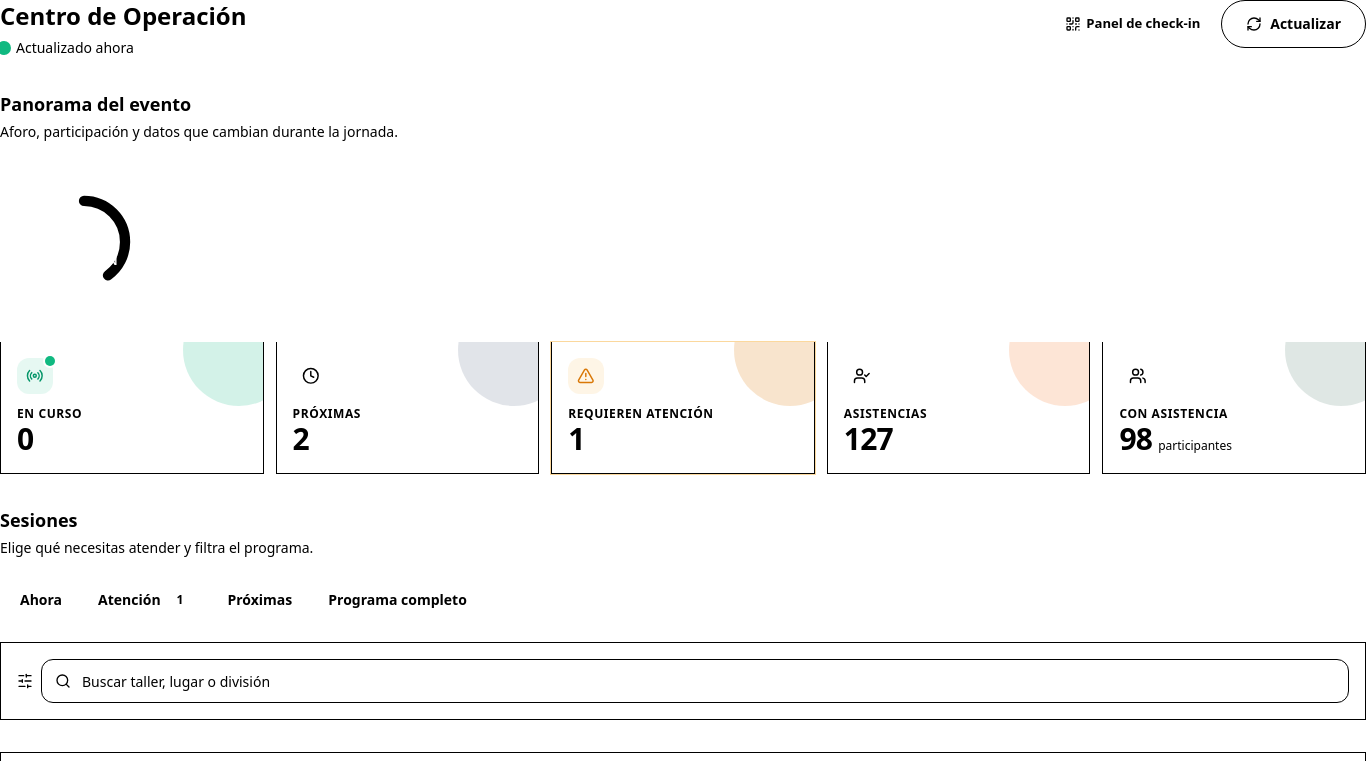
it: an upcoming session without location is attention when close, a configuration notice when far
Click the tab "Atención 1" at (145, 600), box [82,578,208,622]
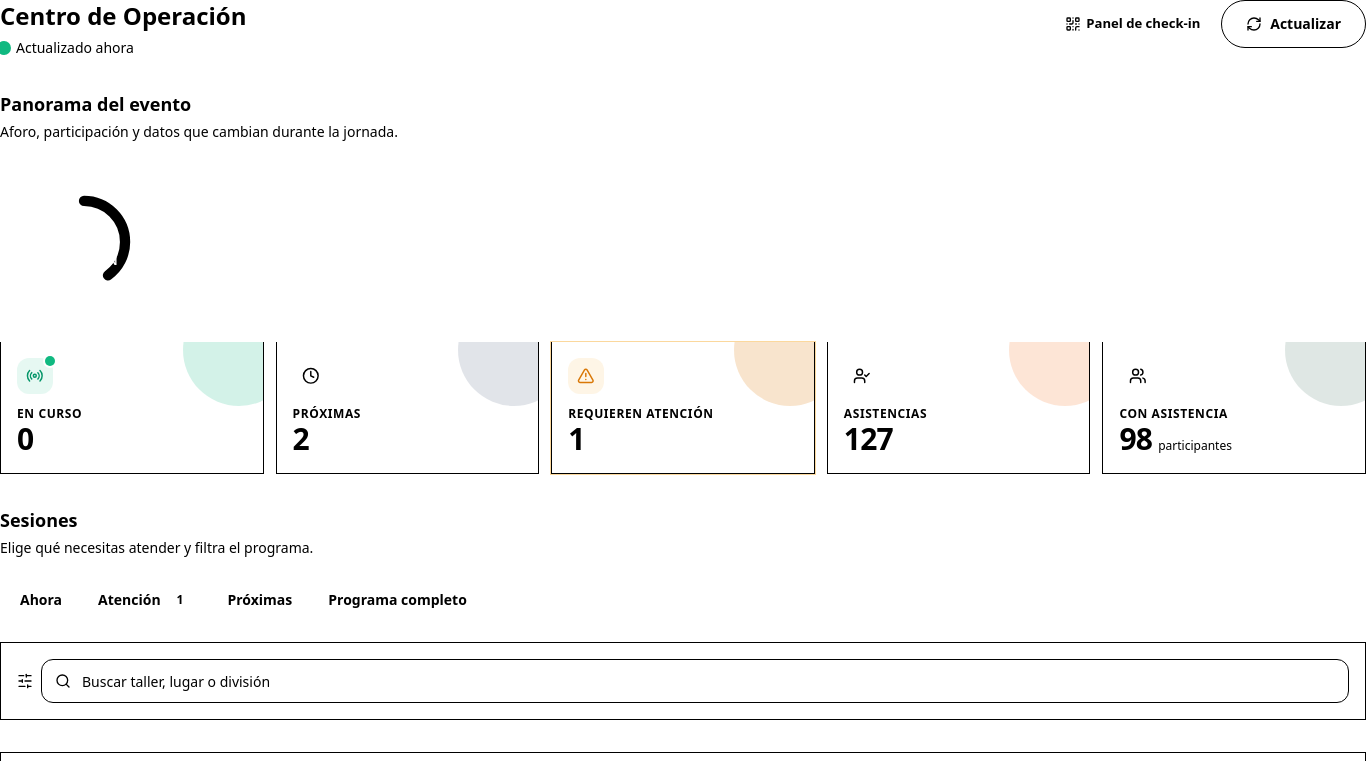
Expected: the text "Sin lugar lejano" is not shown
Click the tab "Próximas" at (260, 600), box [212,578,308,622]
(page scrolled)
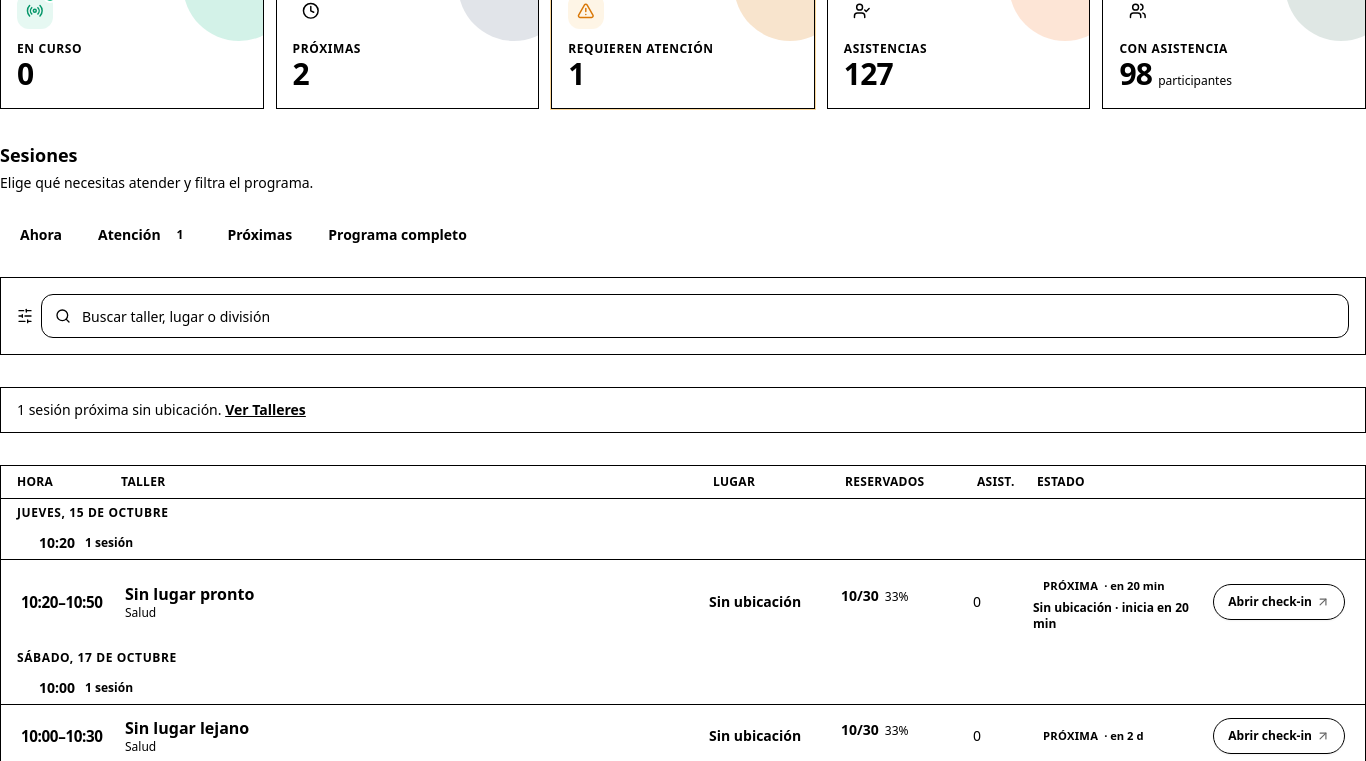
Expected: the text "Sin ubicación" in the row of "· en 2 d" is shown, [709,726,801,745]
Now the text "1 sesión próxima sin ubicación. Ver Talleres" is shown, box [0,387,1365,433]
